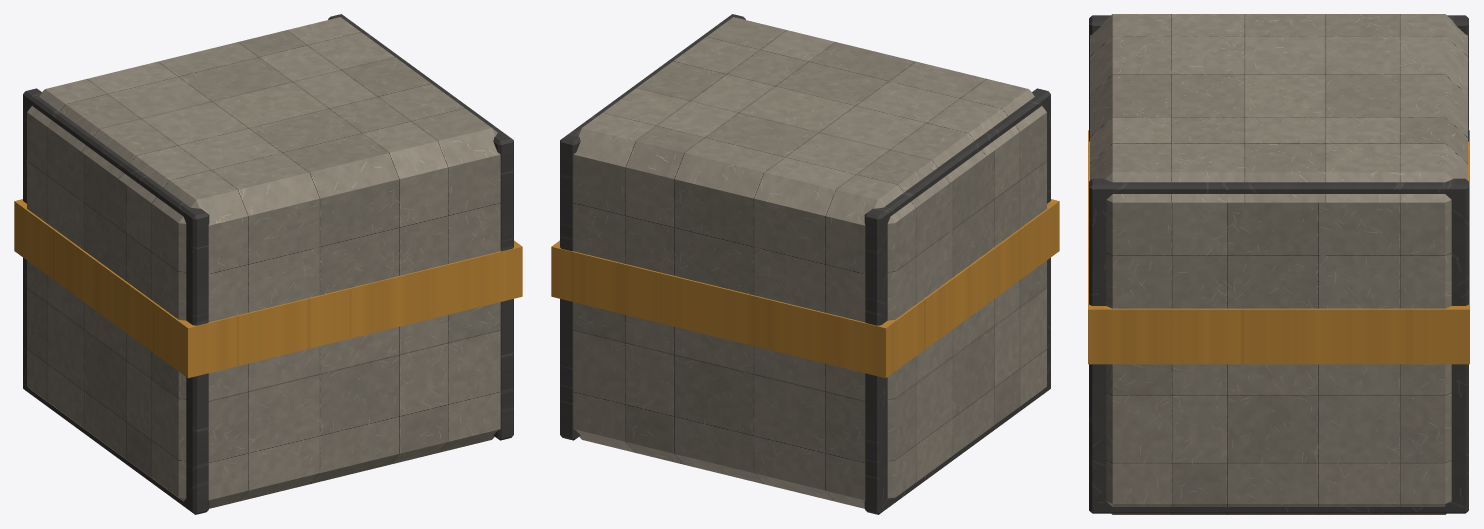
The model's file is prop_crate_m.obj.
3 renders of one model, left to right at view 1: azimuth 30°, elevation 25°; view 2: azimuth 150°, elevation 25°; view 3: azimuth 270°, elevation 25°, orthographic. The views are drawn at different scales.
Parts seen in each view (by area): view 1: prop_crate_m; view 2: prop_crate_m; view 3: prop_crate_m.
Boxes of the visible parts, box(x1,y1,x2,y2) form: prop_crate_m: box(14, 14, 522, 514); prop_crate_m: box(551, 14, 1059, 514); prop_crate_m: box(1088, 14, 1469, 514).
Size of the model in its own units: 1.01 by 0.9 by 0.909.
Materials: 1 (1 with a texture image).
